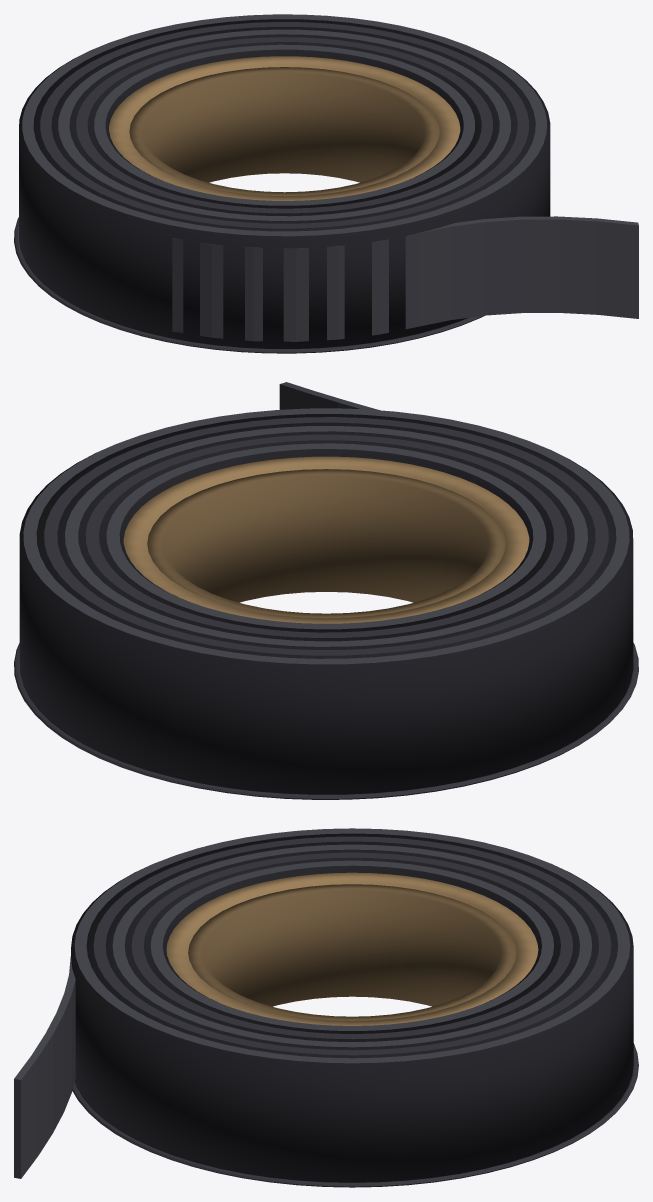
Rendered from tape_thin.glb.
3 views of the same model, one above another, from view 1: azimuth 30°, elevation 25°; view 2: azimuth 150°, elevation 25°; view 3: azimuth 270°, elevation 25° (orthographic). The views are drawn at different scales.
Parts seen in each view (by area): view 1: Winding, FreeEnd, CoreInner, CardboardCore, TopLayer4, TopLayer3, TopLayer2, TopLayer1, TopLayer0, SideGroove0; view 2: Winding, CoreInner, CardboardCore, TopLayer4, TopLayer3, TopLayer2, TopLayer1, TopLayer0, SideGroove0, FreeEnd; view 3: Winding, CoreInner, CardboardCore, TopLayer4, TopLayer3, TopLayer2, TopLayer1, FreeEnd, TopLayer0, SideGroove0.
Part boxes in pixels (x1,y1,x2,y2): Winding: (19, 19, 550, 348); FreeEnd: (172, 216, 638, 341); CoreInner: (129, 67, 439, 196); CardboardCore: (109, 56, 460, 200); TopLayer4: (22, 14, 546, 236); TopLayer3: (40, 22, 528, 228); TopLayer2: (58, 29, 510, 220); TopLayer1: (76, 37, 492, 213); TopLayer0: (94, 44, 474, 205); SideGroove0: (14, 217, 484, 353); Winding: (19, 414, 633, 794); CoreInner: (147, 469, 505, 618); CardboardCore: (123, 456, 529, 623); TopLayer4: (23, 408, 629, 664); TopLayer3: (44, 417, 608, 655); TopLayer2: (65, 426, 587, 646); TopLayer1: (85, 434, 567, 637); TopLayer0: (106, 443, 546, 629); SideGroove0: (14, 643, 638, 799); FreeEnd: (279, 382, 379, 410); Winding: (71, 833, 633, 1182); CoreInner: (188, 884, 516, 1020); CardboardCore: (166, 872, 538, 1025); TopLayer4: (74, 828, 630, 1063); TopLayer3: (93, 836, 611, 1055); TopLayer2: (112, 844, 592, 1047); TopLayer1: (131, 852, 572, 1039); FreeEnd: (14, 956, 75, 1178); TopLayer0: (150, 860, 553, 1030); SideGroove0: (72, 1043, 638, 1187).
Size of the model in its own units: 0.0662 by 0.0168 by 0.0722.
